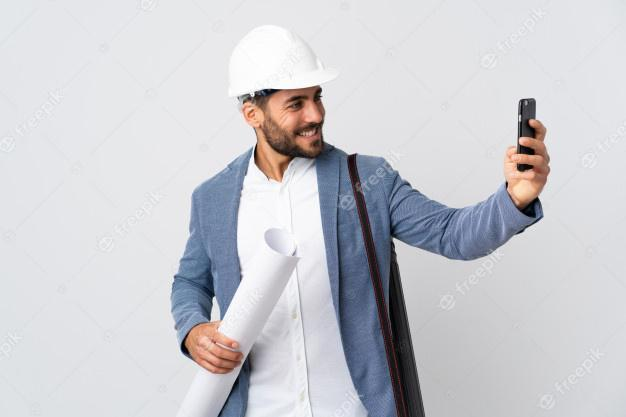helmet: (226, 24, 341, 96)
